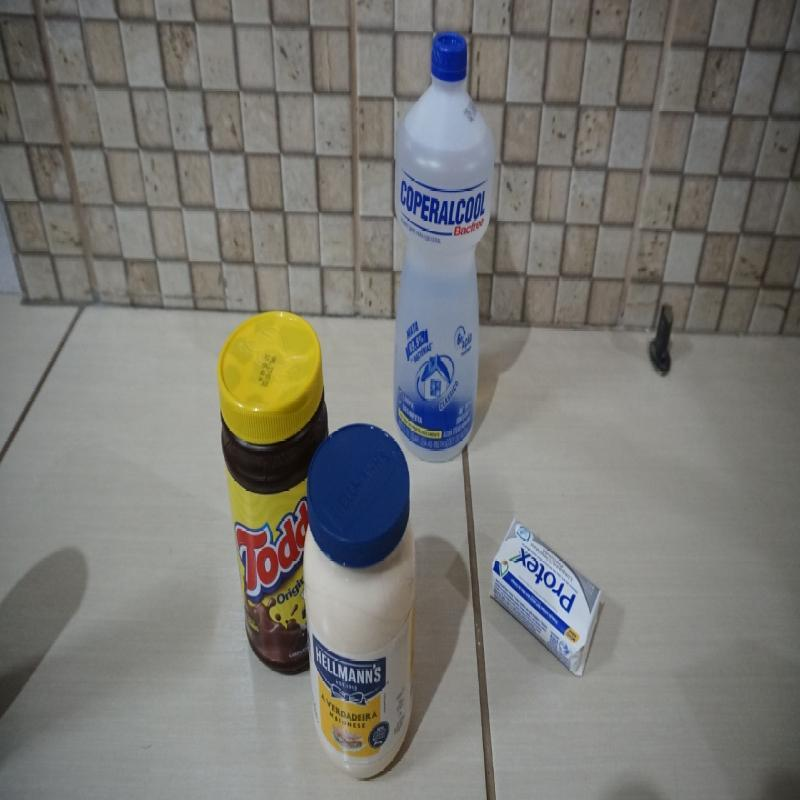Alcohol Bottle: (392, 26, 496, 468)
Chocolate Powder: (216, 307, 330, 686)
Mayonnaise: (302, 421, 420, 781)
Soap: (489, 514, 604, 683)
